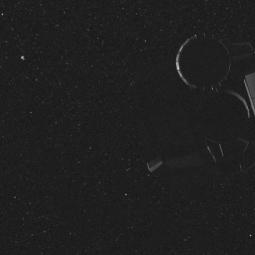cheops: (136, 24, 253, 201)
